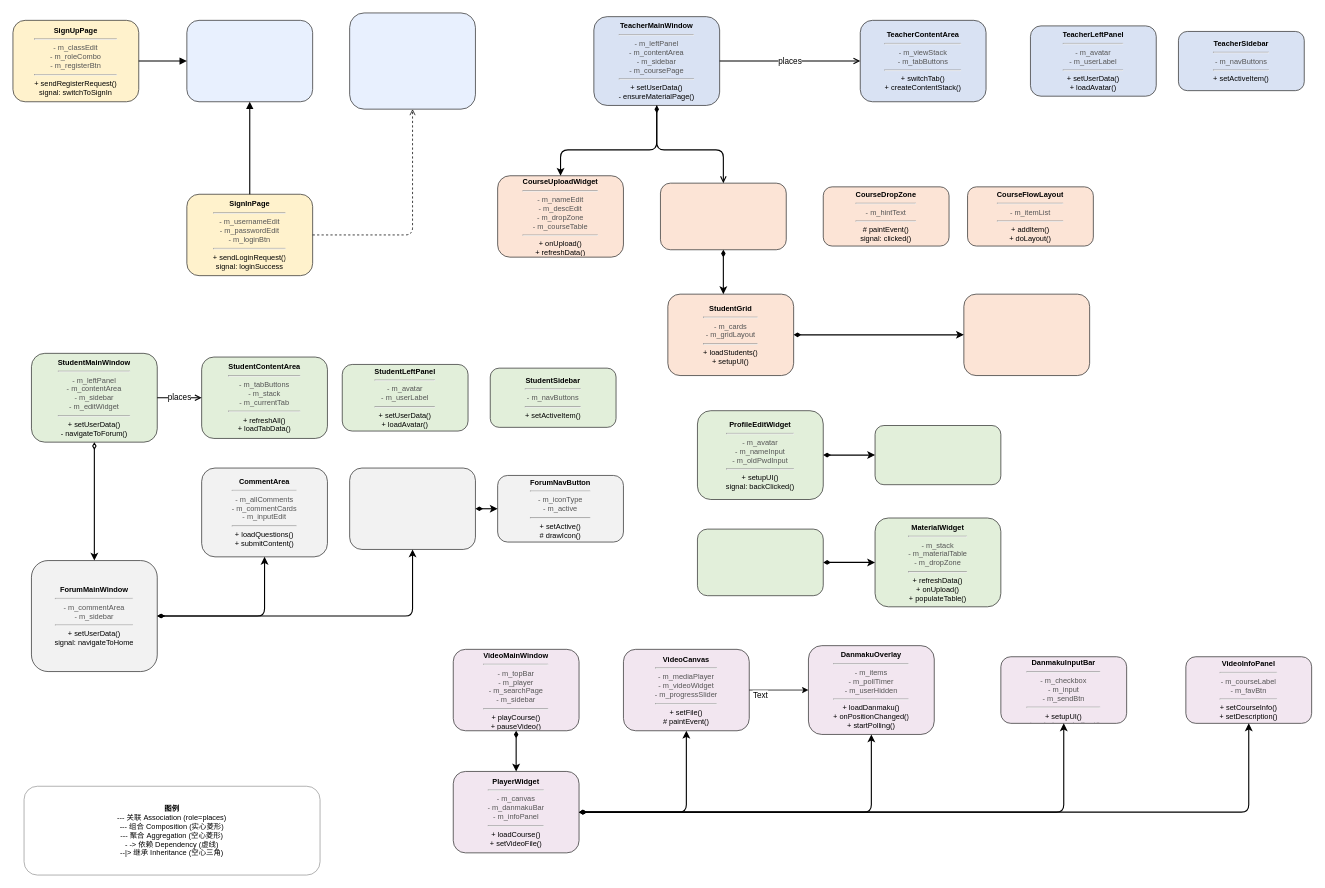
Some shapes in this 1325 by 888 pixel diagram are drawn without their labels. Each missing label, with the centre of its shape:
Base (abstract) + getName() + init() + refresh() virtual methods: point 249,61
EditAvatarWidget - m_initials - m_pixmap + setAvatarPixmap() # paintEvent(): point 937,455
ForumSidebarBase - m_navButtons + setActiveItem() # setupItems(): point 412,508
MaterialUploadPage - m_materialWidget - m_sidebar + refreshAvatars(): point 760,562
NetworkHandler (singleton) - m_manager + instance() + get() + post() + baseUrl(): point 412,60
StudentCard - m_name - m_hovered + studentName() # paintEvent() signal: kicked(): point 1026,334
StudentManagePage - m_studentGrid - m_sidebar + fetchStudents(): point 723,216
